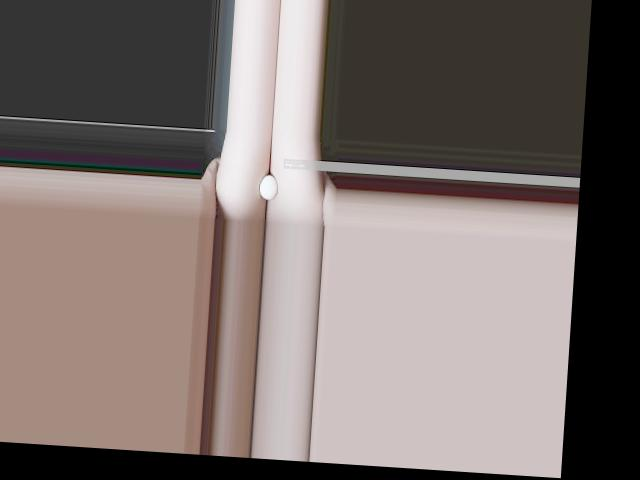egg: (259, 174, 278, 199)
